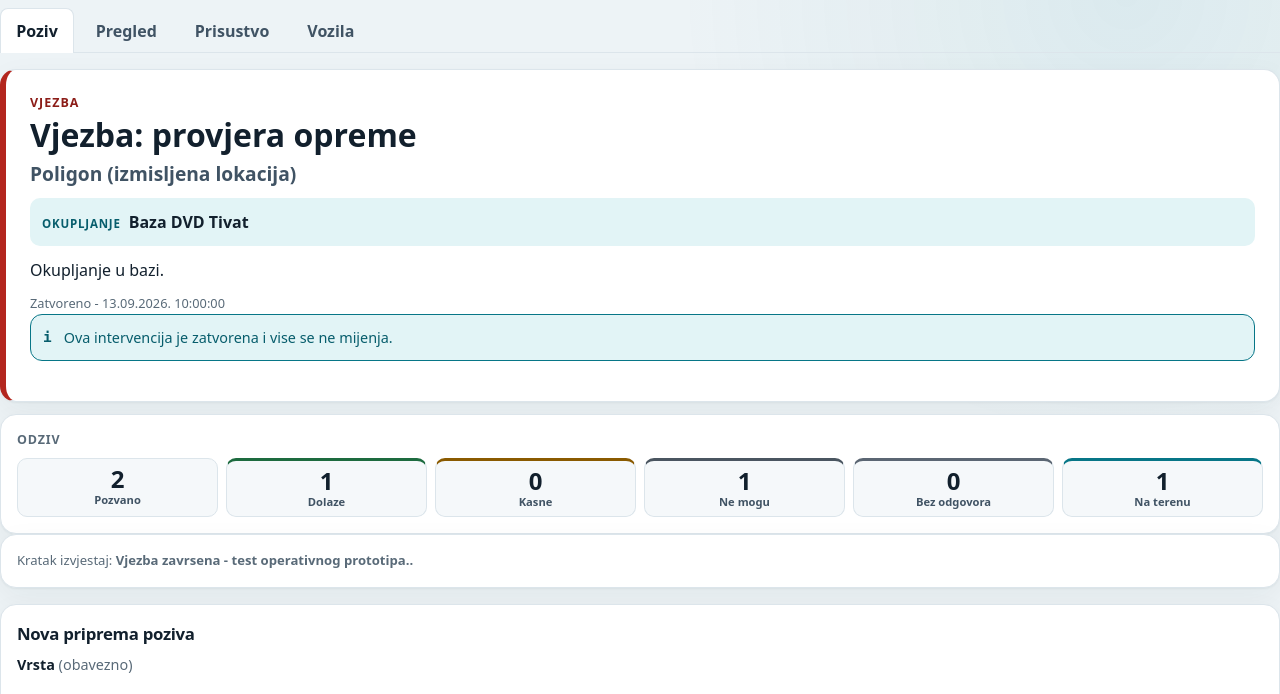
Test: every recorded time and duration reaches the screen › the commander console › measures the whole intervention and each state it passed through
The width and height of the screenshot is (1280, 694).
Step 1. Click the tab "Pregled" → x=126, y=30, box top-left (80, 8), bottom-right (173, 52)
(page scrolled)
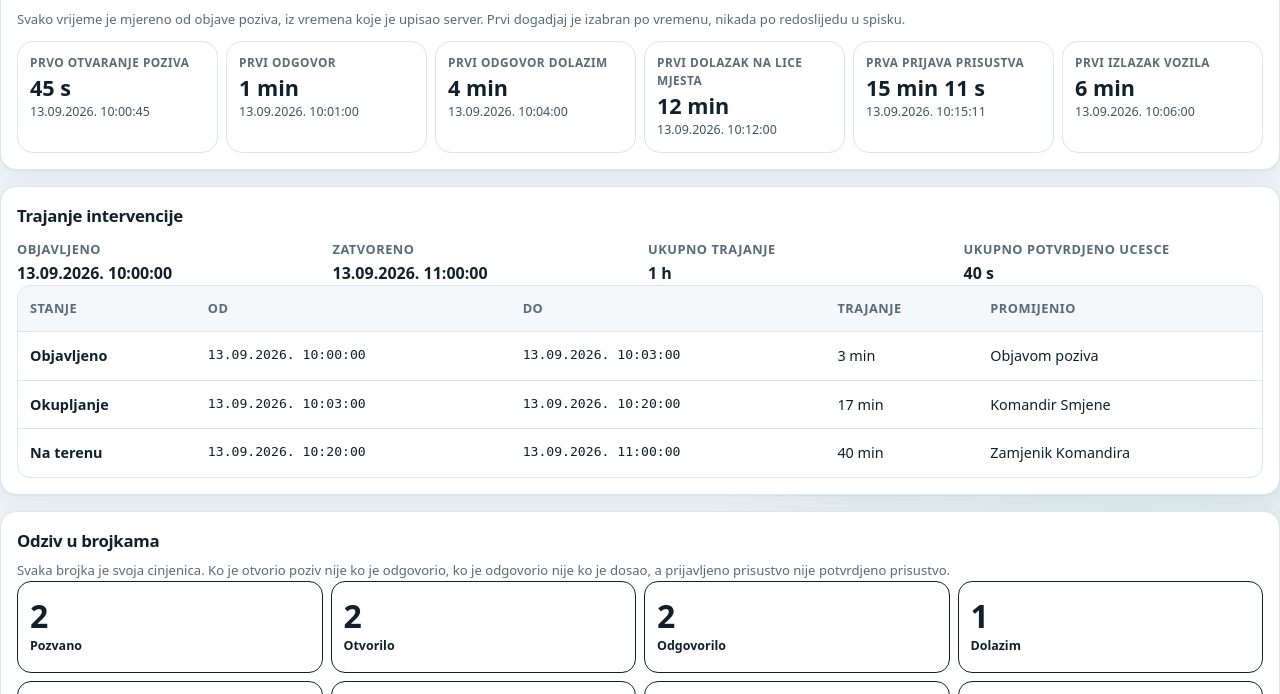
Expected: the text "1 h" is shown, top-left (648, 262), bottom-right (672, 284)
Expected: the row that starts with "Objavljeno" is shown, top-left (30, 346), bottom-right (108, 365)
Expected: the row that starts with "Objavljeno" shows "3 min", top-left (837, 346), bottom-right (875, 365)
